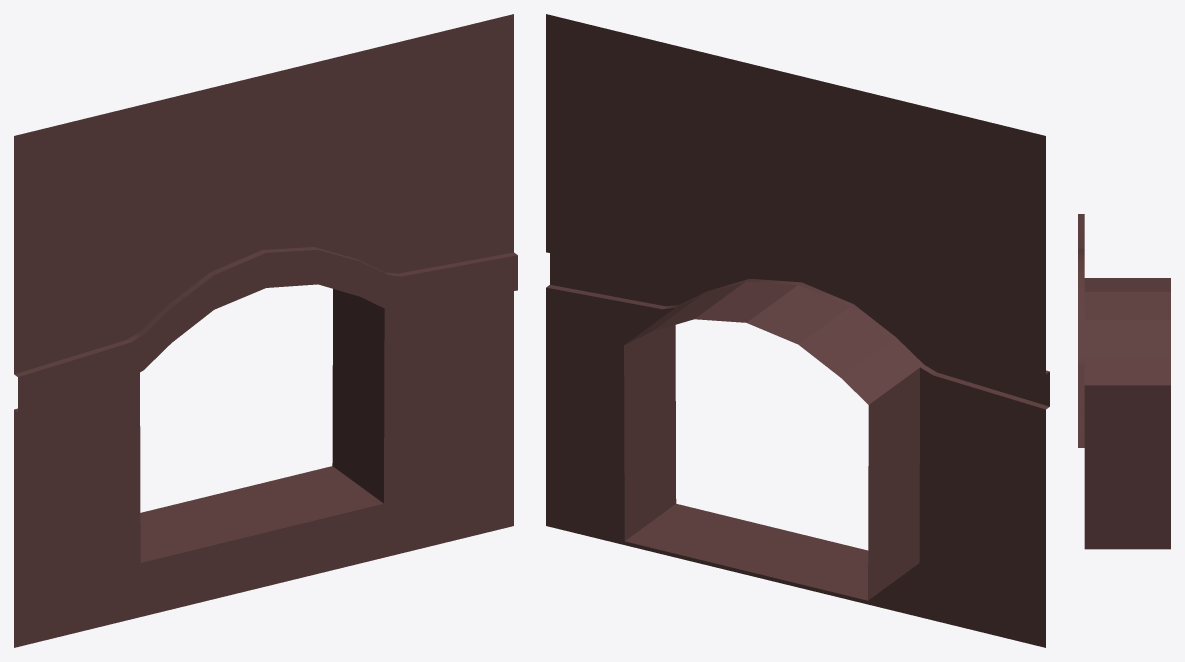
File: AlleyWallF_1.fbx
3 renders of one model, left to right at view 1: azimuth 30°, elevation 25°; view 2: azimuth 150°, elevation 25°; view 3: azimuth 270°, elevation 25°, orthographic. The views are drawn at different scales.
Parts seen in each view (by area): view 1: AlleyWayF_1; view 2: AlleyWayF_1; view 3: AlleyWayF_1.
Boxes of the visible parts, box(x1,y1,x2,y2) form: AlleyWayF_1: box(14, 14, 517, 647); AlleyWayF_1: box(546, 14, 1049, 647); AlleyWayF_1: box(1078, 214, 1170, 549).
Size of the model in its own units: 440 by 431 by 84.34.
